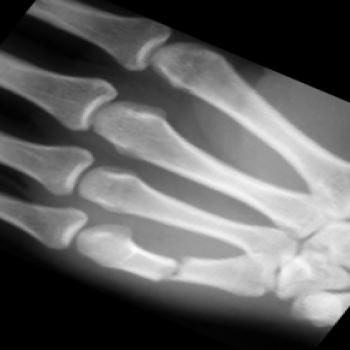Fracture: (150, 252, 193, 290)
